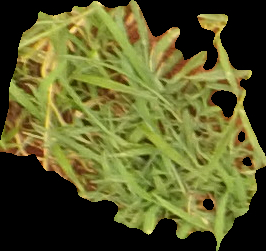grass: (1, 1, 265, 249)
